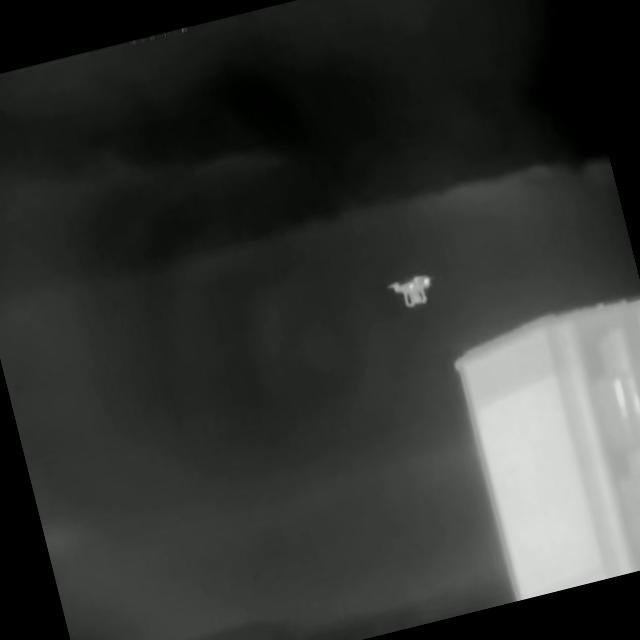DRONE: (385, 271, 441, 309)
